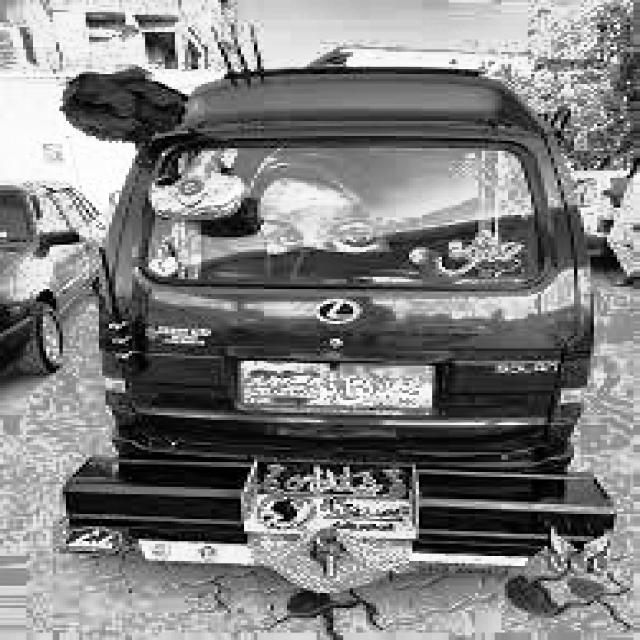LCV: (53, 57, 607, 578)
